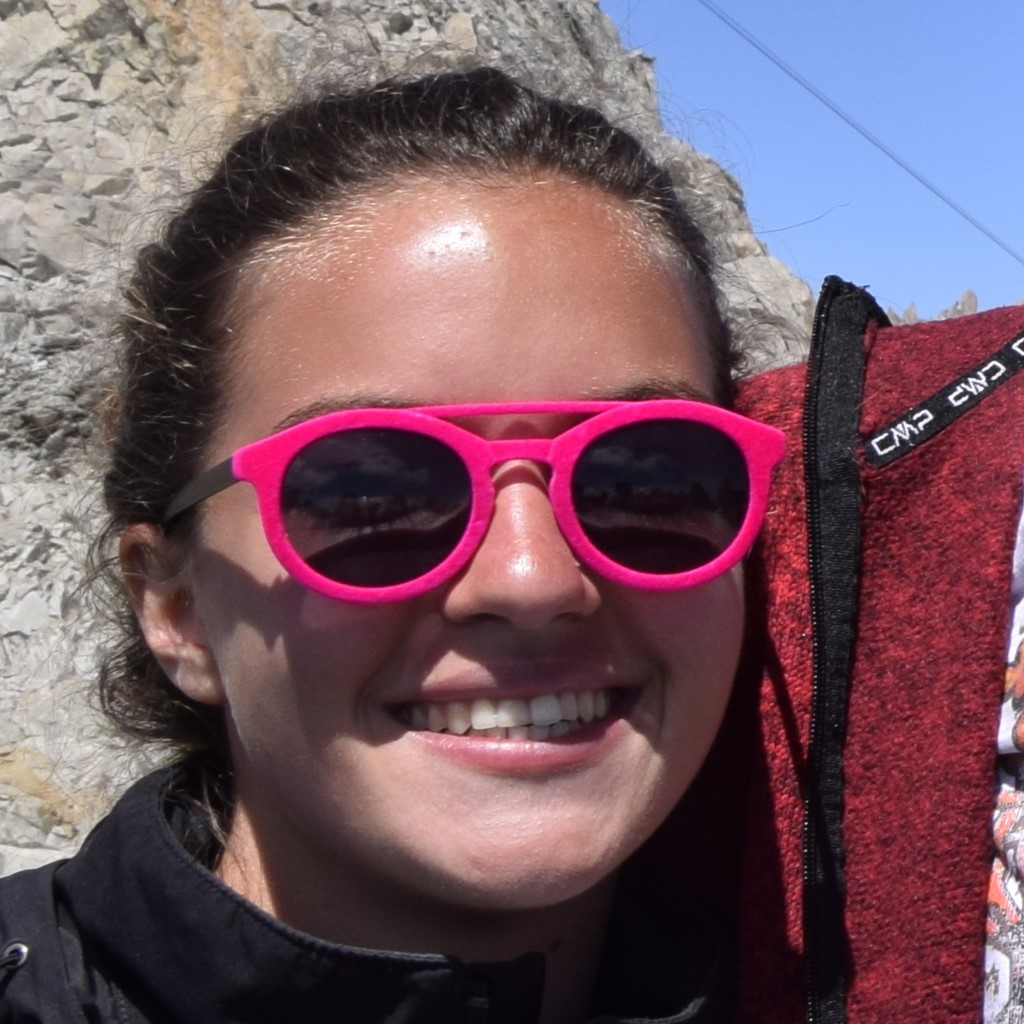sin_mascara: (181, 116, 733, 917)
